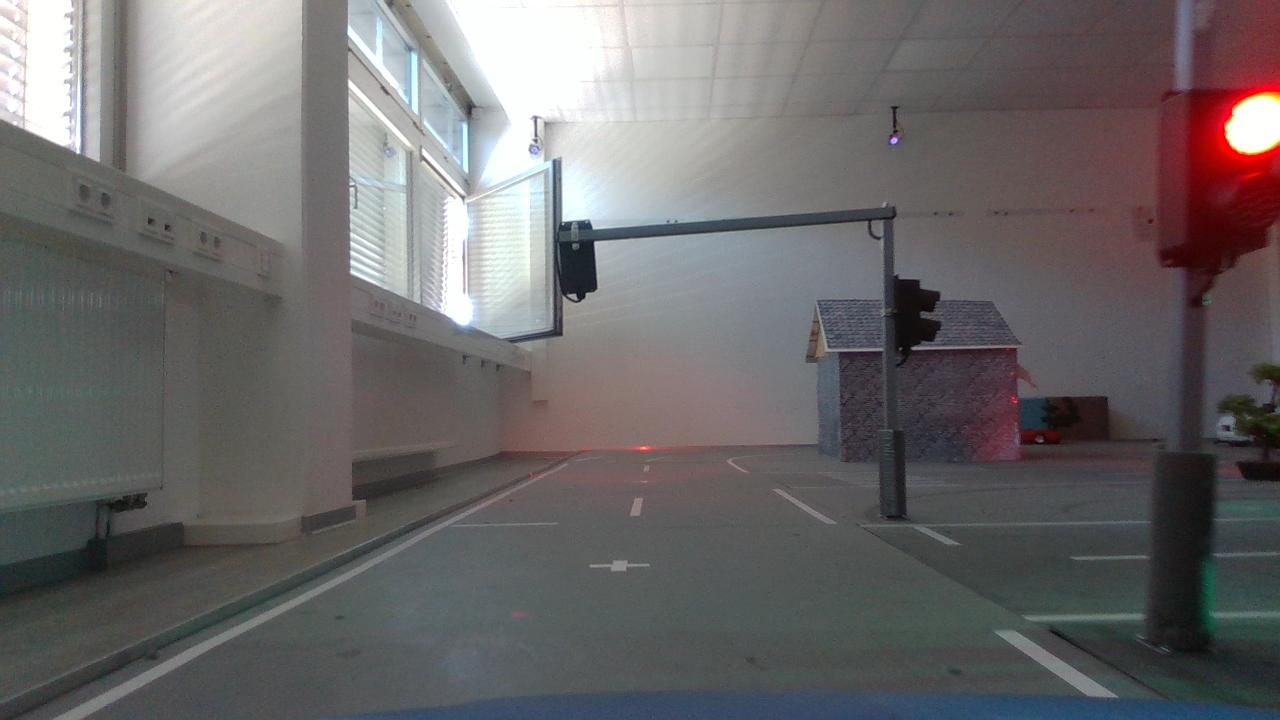traffic_light_red: (1147, 73, 1280, 296)
